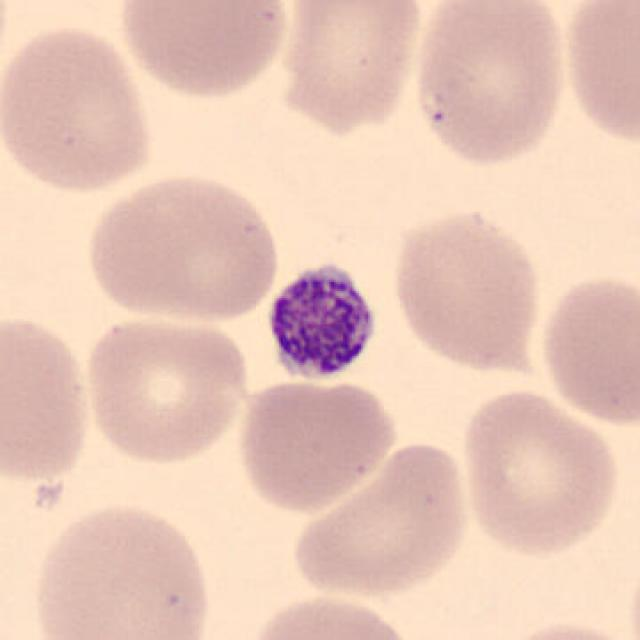Platelets: (260, 257, 384, 388)
RBC: (80, 168, 284, 326), (288, 437, 473, 601), (457, 384, 624, 562), (0, 19, 160, 198), (407, 0, 573, 171), (25, 497, 217, 640), (79, 309, 252, 467), (388, 204, 546, 374), (233, 374, 400, 516), (276, 0, 426, 138), (113, 0, 295, 102), (0, 307, 96, 488), (533, 266, 640, 428), (558, 0, 640, 153), (240, 589, 421, 640), (487, 617, 638, 640)
